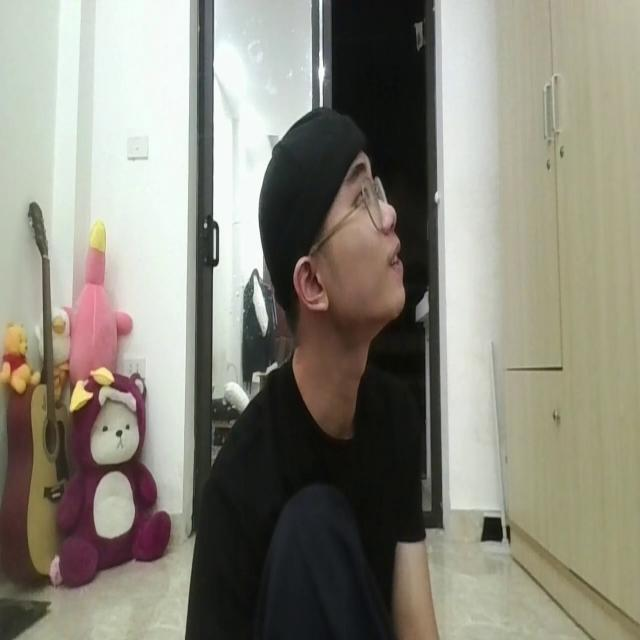student: (191, 99, 454, 640)
